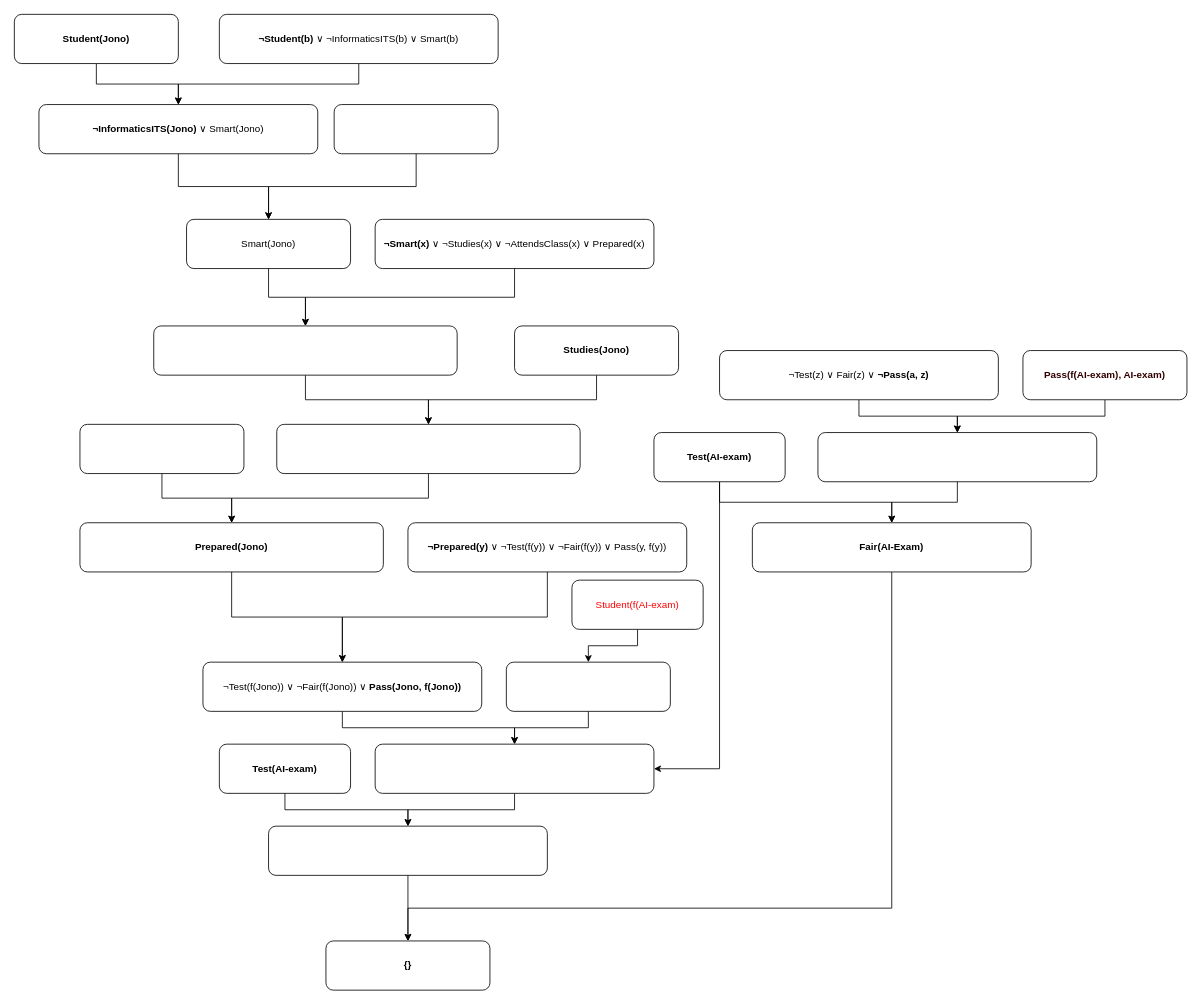
Image size: 1201x1005. Some labels were removed from this diagram. The shapes that lost their labels are listed below. From the top down, each one's centre as x and y in pixels, then its label:
At pixel 415 129: "InformaticsITS(Jono)".
At pixel 305 350: "¬Studies(Jono) ∨ ¬AttendsClass(Jono) ∨ Prepared(Jono)".
At pixel 161 449: "AttendsClass(Jono)".
At pixel 428 449: "¬AttendsClass(Jono) ∨ Prepared(Jono)".
At pixel 957 457: "¬Test(AI-Exam) ∨ Fair(AI-Exam)".
At pixel 588 686: "¬ Pass(Jono, AI-exam)".
At pixel 514 768: "¬Test(Ai-exam) ∨ ¬Fair(Ai-exam)".
At pixel 407 850: "¬Fair(Ai-exam)".
